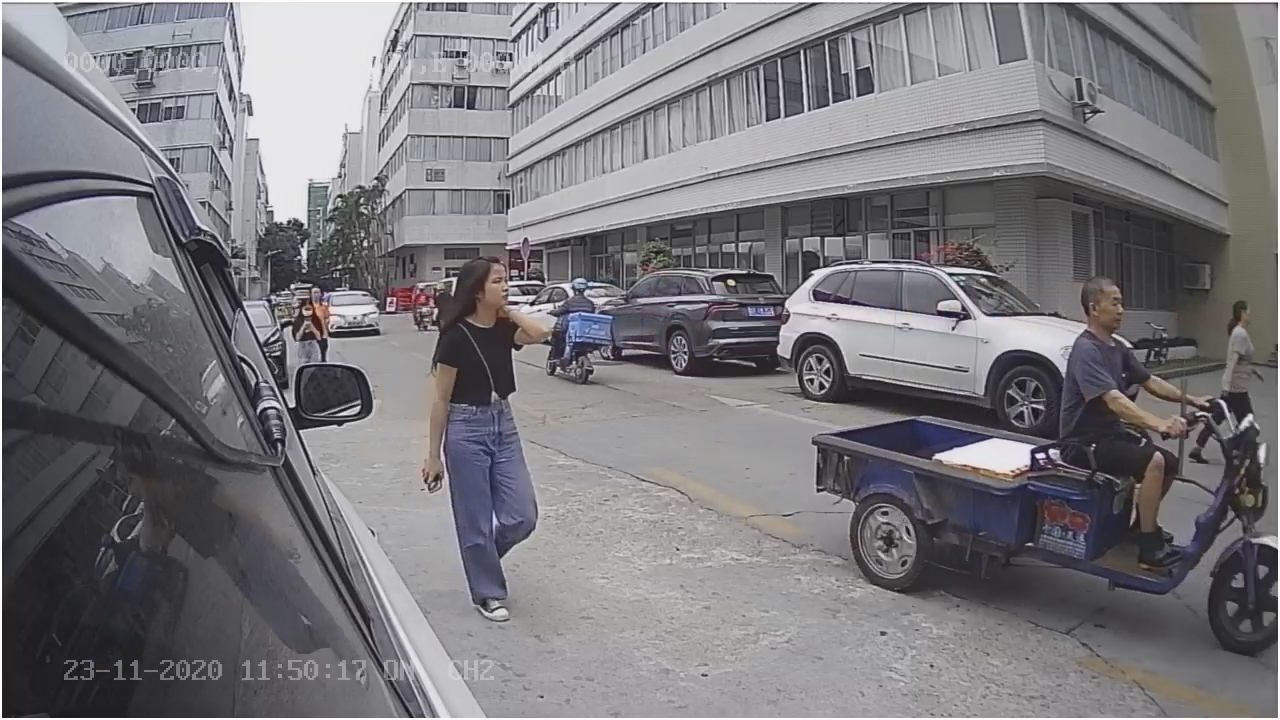person: (422, 250, 548, 620), (1059, 273, 1196, 429)
